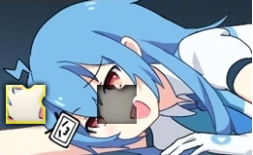gap: (97, 84, 137, 124)
